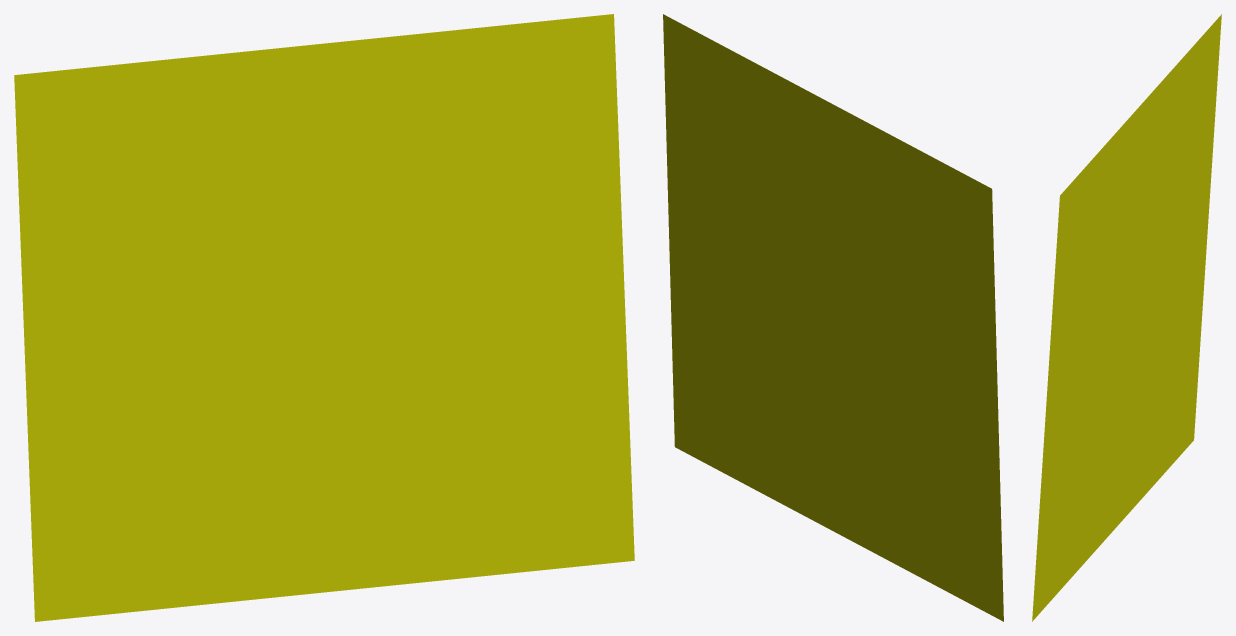
The model's file is postIt2.fbx.
The picture shows the model from 3 angles, left to right: view 1: azimuth 30°, elevation 25°; view 2: azimuth 150°, elevation 25°; view 3: azimuth 270°, elevation 25°; orthographic projection. The views are drawn at different scales.
Visible parts, largest first — view 1: postIt2; view 2: postIt2; view 3: postIt2.
Boxes of the visible parts, left/top/right/bottom form: postIt2: left=14, top=14, right=634, bottom=621; postIt2: left=663, top=14, right=1003, bottom=621; postIt2: left=1032, top=14, right=1221, bottom=621.
Size of the model in its own units: 0.3011 by 0.3152 by 0.1242.
